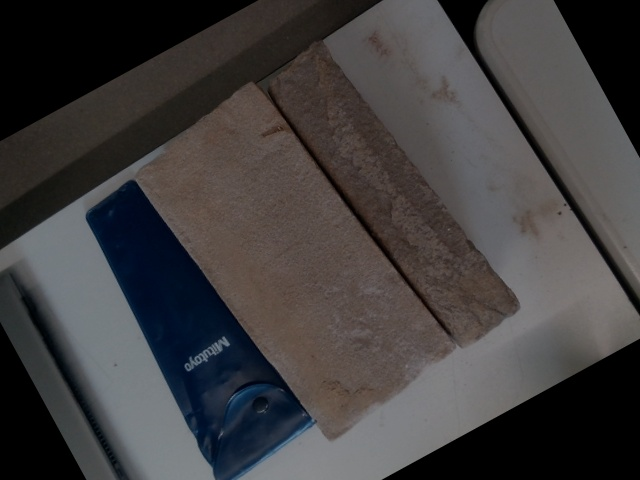brick: (133, 85, 452, 437)
